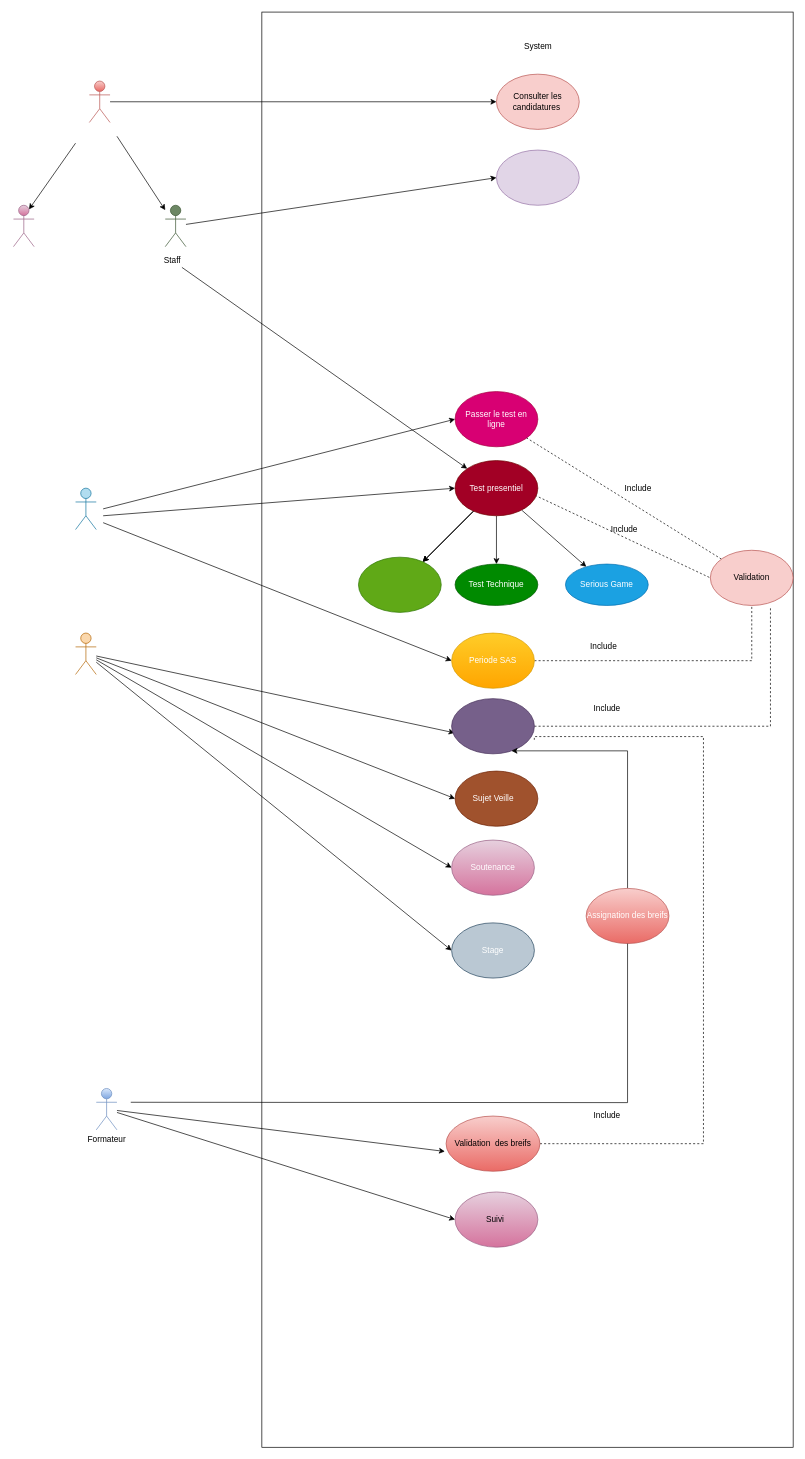
The diagram is 805 pixels wide and 1459 high, and some of its shapes have lost their labels. The centre of each missing label's shape, as x and y in pixels:
Admin: [23,226]
Administration: [99,101]
Apprenant: [85,653]
Candidat: [85,508]
entretien de Motivation: [399,584]
Organisation des groupes: [537,177]
réalisation des projets: [492,726]
